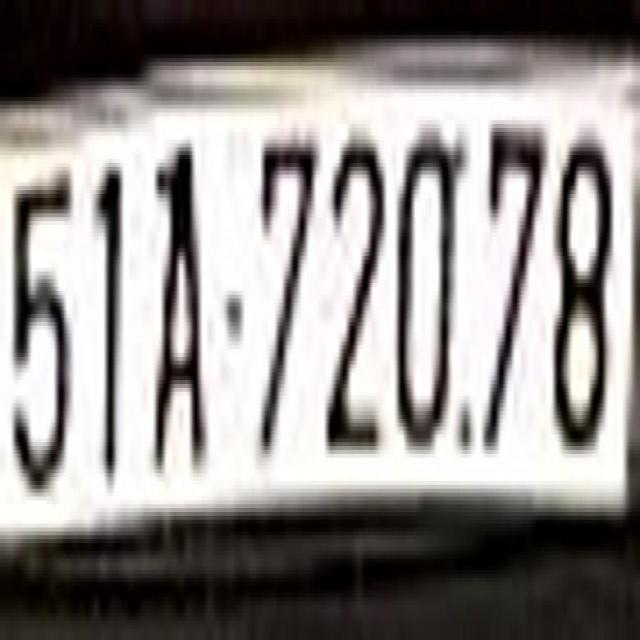0: (390, 105, 453, 454)
1: (86, 120, 132, 493)
2: (322, 101, 385, 473)
5: (7, 151, 78, 485)
7: (481, 58, 546, 450), (257, 97, 315, 450)
8: (550, 70, 614, 477)
A: (147, 116, 207, 492)
